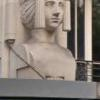Statue: (16, 2, 84, 84)
